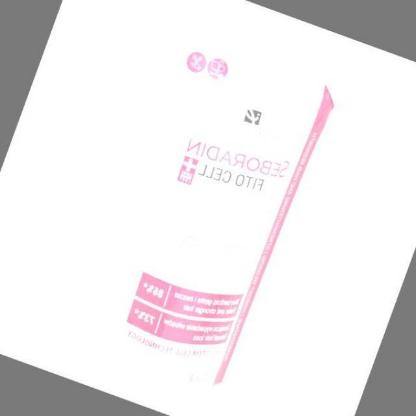Plastic Packaging: (51, 9, 335, 394)
